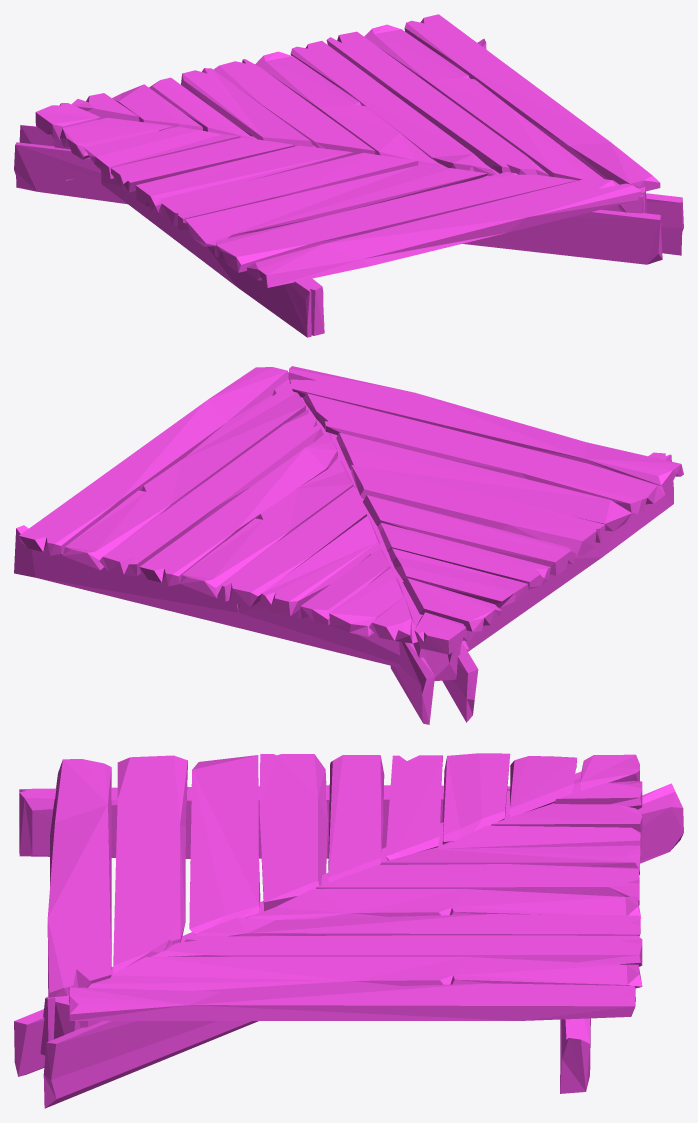
The model's file is SM_Pier_Corner_Fantasy.fbx.
3 views of the same model, one above another, from view 1: azimuth 30°, elevation 25°; view 2: azimuth 150°, elevation 25°; view 3: azimuth 270°, elevation 25° (orthographic). The views are drawn at different scales.
Parts seen in each view (by area): view 1: SM_Pier_Corner_Fantasy; view 2: SM_Pier_Corner_Fantasy; view 3: SM_Pier_Corner_Fantasy.
Part boxes in pixels (bbox=[...]): SM_Pier_Corner_Fantasy: bbox=[14, 14, 683, 337]; SM_Pier_Corner_Fantasy: bbox=[14, 366, 683, 724]; SM_Pier_Corner_Fantasy: bbox=[14, 753, 683, 1108].
Size of the model in its own units: 3.37 by 0.5451 by 3.4.
